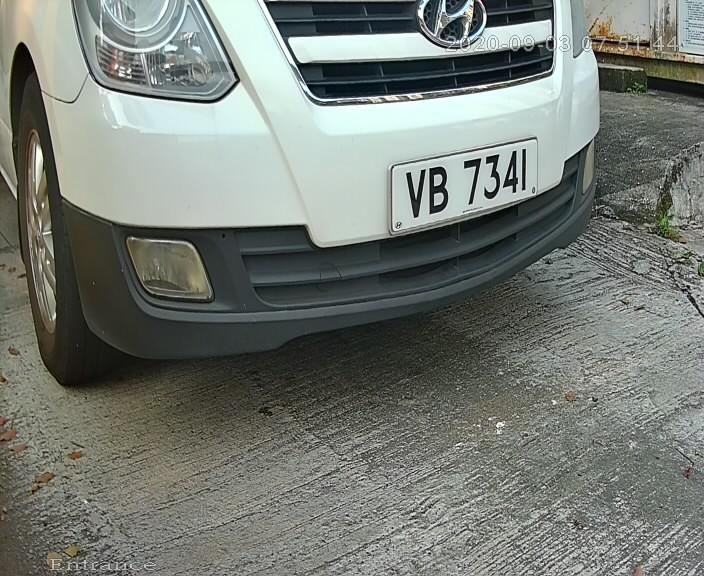License Plate: (378, 124, 554, 237)
